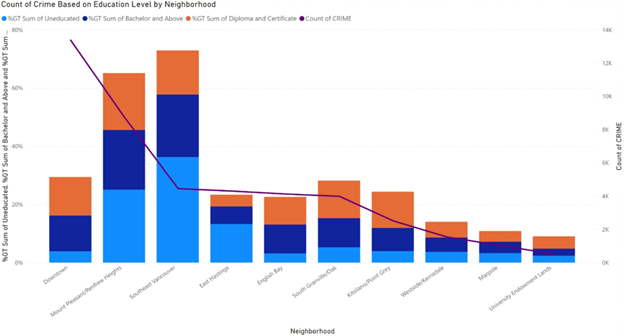

The page's visual inventory and layout, read from the dashboard file:
{"tool":"powerbi","page":{"name":"Education","canvas":[1280,720],"ordinal":2},"visuals":[{"type":"lineStackedColumnComboChart","title":"Count of Crime Based on Education Level by Neighborhood","fields":{"Category":["Census Data.Neighborhood"],"Y":["Divide(Sum(Census Data.Uneducated), ScopedEval(Sum(Census Data.Uneducated), []))","Divide(Sum(Census Data.Bachelor and Above), ScopedEval(Sum(Census Data.Bachelor and Above), []))","Divide(Sum(Census Data.Diploma and Certificate), ScopedEval(Sum(Census Data.Diploma and Certificate), []))"],"Y2":["CountNonNull(Crime Data.TYPE)"]},"box":[0,0,1281.4,692.9],"z":0}]}

Visuals, with their boxes on the page's 1280x720 design canvas (x1, y1, x2, y2). These are canvas units, not pixel positions in the 624x336 screenshot, which may show the page scaled, cropped or inside an application window:
"Count of Crime Based on Education Level by Neighborhood" lineStackedColumnComboChart: <bbox>0, 0, 1281, 693</bbox>
